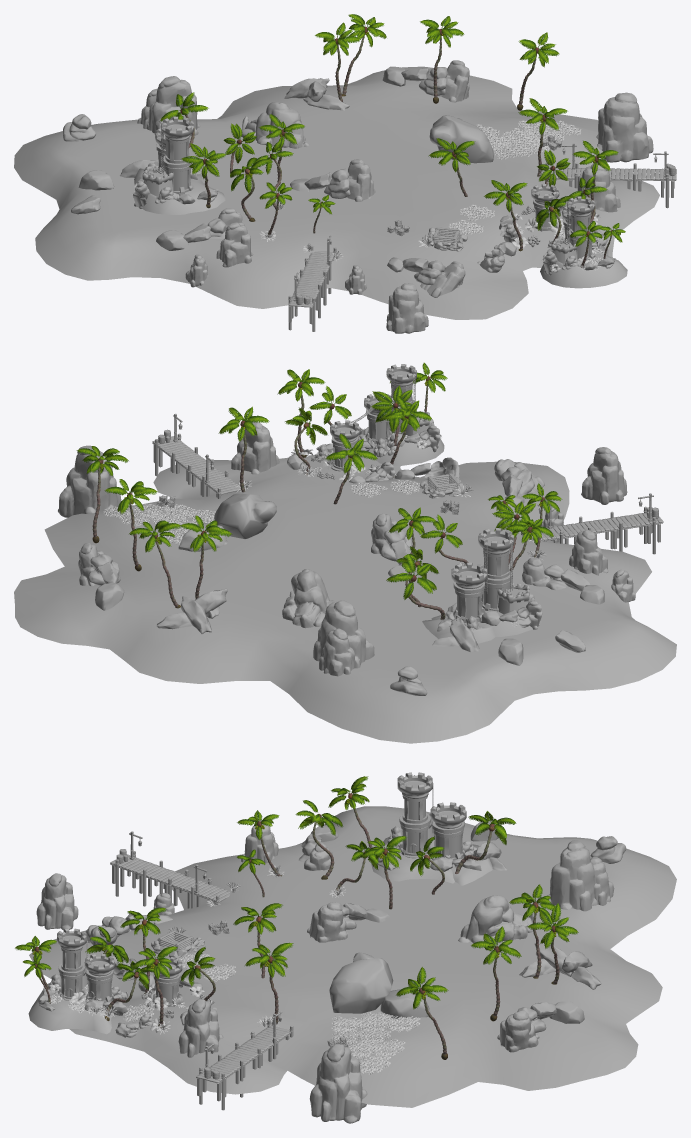
Rendered from volcano_island.fbx.
3 views of the same model, one above another, from view 1: azimuth 30°, elevation 25°; view 2: azimuth 150°, elevation 25°; view 3: azimuth 270°, elevation 25° (orthographic). The views are drawn at different scales.
Parts seen in each view (by area): view 1: pPlane1, polySurface2, polySurface222, polySurface262, polySurface276, polySurface286, polySurface278, polySurface267, polySurface266, polySurface258, polySurface273, polySurface263 (+26 smaller); view 2: pPlane1, polySurface2, polySurface262, polySurface222, polySurface276, polySurface286, bridge, polySurface263, polySurface266, polySurface278, polySurface273, polySurface259 (+32 smaller); view 3: pPlane1, polySurface222, polySurface2, polySurface262, polySurface276, polySurface286, polySurface266, bridge, polySurface278, polySurface263, polySurface267, polySurface277 (+30 smaller).
Part boxes in pixels (<box>): pPlane1: <box>14,66,659,319</box>; polySurface2: <box>132,116,225,214</box>; polySurface222: <box>540,196,627,288</box>; polySurface262: <box>63,76,200,214</box>; polySurface276: <box>596,92,653,162</box>; polySurface286: <box>288,245,336,331</box>; polySurface278: <box>382,60,469,102</box>; polySurface267: <box>290,159,375,201</box>; polySurface266: <box>429,115,493,163</box>; polySurface258: <box>387,257,465,297</box>; polySurface273: <box>386,283,428,333</box>; polySurface263: <box>241,102,309,148</box>; pPlane1: <box>14,455,676,743</box>; polySurface2: <box>431,528,542,636</box>; polySurface262: <box>313,600,585,695</box>; polySurface222: <box>358,364,444,465</box>; polySurface276: <box>58,445,121,517</box>; polySurface286: <box>521,506,663,554</box>; bridge: <box>152,429,240,498</box>; polySurface263: <box>282,569,336,628</box>; polySurface266: <box>214,493,276,538</box>; polySurface278: <box>78,543,124,610</box>; polySurface273: <box>581,447,627,504</box>; polySurface259: <box>522,557,604,604</box>; pPlane1: <box>29,806,676,1107</box>; polySurface222: <box>28,928,113,1034</box>; polySurface2: <box>371,772,454,883</box>; polySurface262: <box>429,807,626,911</box>; polySurface276: <box>309,1044,367,1123</box>; polySurface286: <box>110,849,235,908</box>; polySurface266: <box>329,952,393,1013</box>; bridge: <box>196,1019,293,1110</box>; polySurface278: <box>497,1001,584,1052</box>; polySurface263: <box>458,895,536,942</box>; polySurface267: <box>307,902,389,942</box>; polySurface277: <box>178,999,223,1057</box>.
Size of the model in its own units: 9350 by 1737 by 8567.
